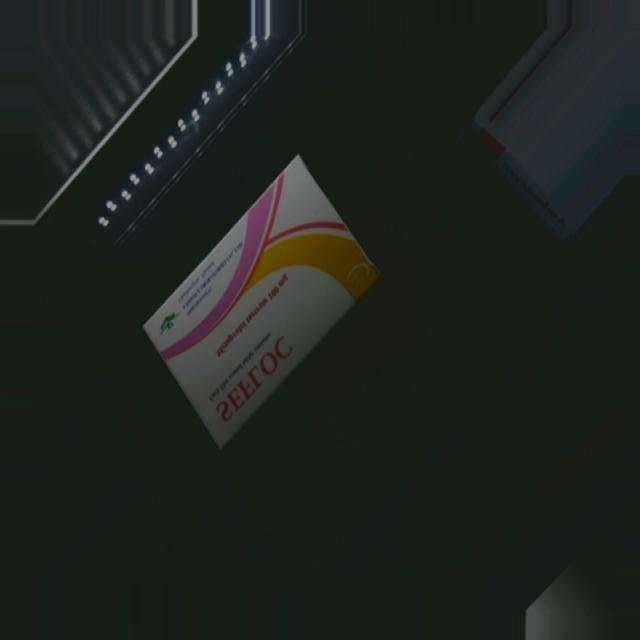medicine_name_detection: (140, 156, 377, 444)
